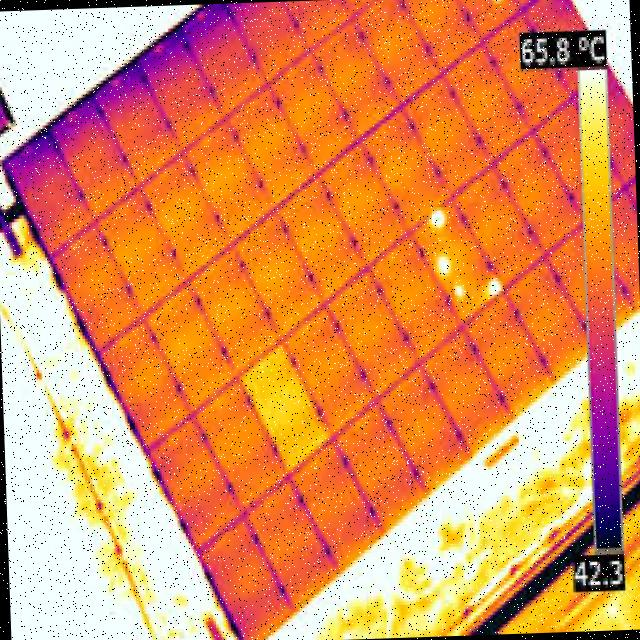Hotspot: (483, 274, 508, 301), (432, 253, 448, 280), (428, 206, 446, 228), (454, 282, 466, 299), (488, 0, 508, 7)
